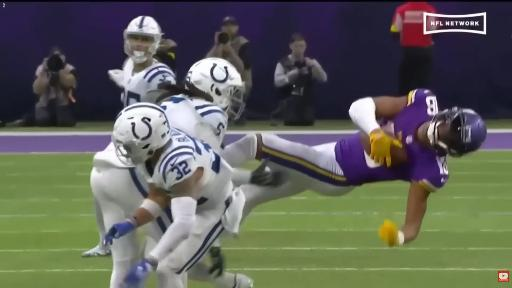Helmet: (185, 58, 245, 119), (112, 103, 170, 164), (428, 107, 487, 157), (124, 16, 162, 63)
Jersey: (335, 89, 449, 191), (138, 129, 232, 205), (160, 95, 227, 150), (122, 59, 175, 106), (123, 59, 176, 106)
Player: (221, 89, 486, 246), (105, 104, 244, 287), (156, 59, 242, 147), (109, 16, 175, 106)
